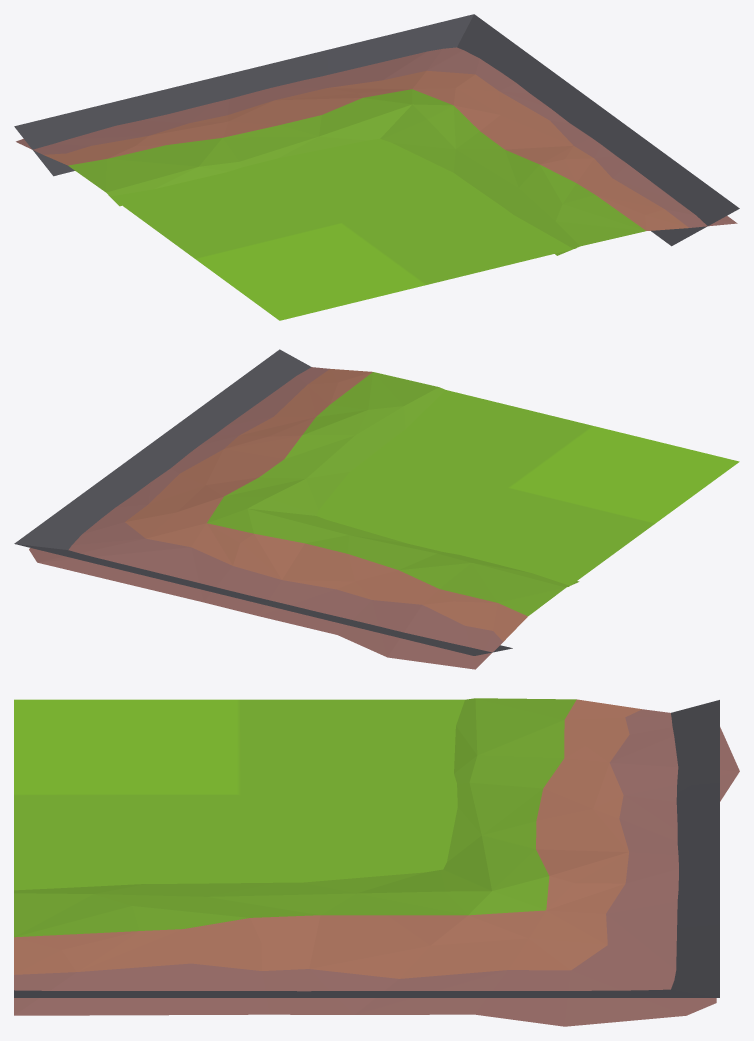
The model's file is sidewalk_forest_corner.fbx.
3 renders of one model, top to bottom at view 1: azimuth 30°, elevation 25°; view 2: azimuth 150°, elevation 25°; view 3: azimuth 270°, elevation 25°, orthographic. The views are drawn at different scales.
Visible parts, largest first — view 1: sidewalk_forest_corner; view 2: sidewalk_forest_corner; view 3: sidewalk_forest_corner.
Part boxes in pixels (x1,y1,x2,y2): sidewalk_forest_corner: (14, 14, 739, 320); sidewalk_forest_corner: (14, 349, 739, 669); sidewalk_forest_corner: (14, 698, 739, 1026).
Size of the model in its own units: 1080 by 64.39 by 1080.
